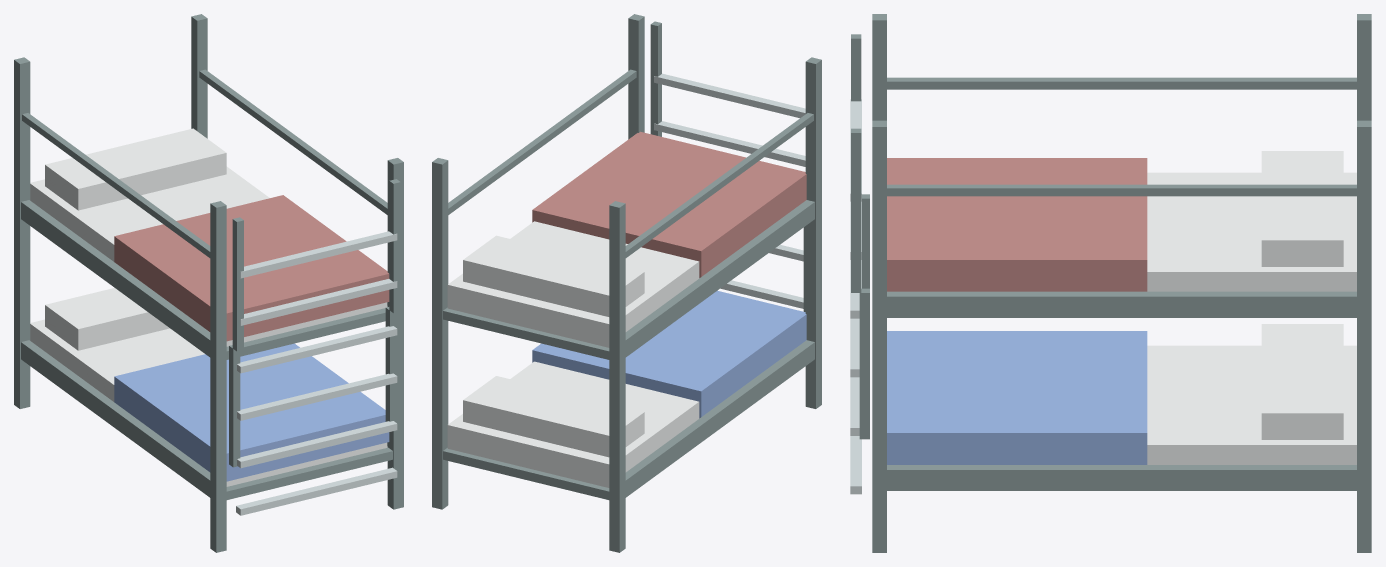
Rendered from bedBunkIndustrial.glb.
3 renders of one model, left to right at view 1: azimuth 30°, elevation 25°; view 2: azimuth 150°, elevation 25°; view 3: azimuth 270°, elevation 25°, orthographic. The views are drawn at different scales.
Parts seen in each view (by area): view 1: bedBunkIndustrial; view 2: bedBunkIndustrial; view 3: bedBunkIndustrial.
Part boxes in pixels (x1=…): bedBunkIndustrial: x1=14, y1=14, x2=403, y2=552; bedBunkIndustrial: x1=432, y1=14, x2=821, y2=552; bedBunkIndustrial: x1=850, y1=14, x2=1371, y2=552.
Size of the model in its own units: 0.455 by 0.8 by 0.8875.
